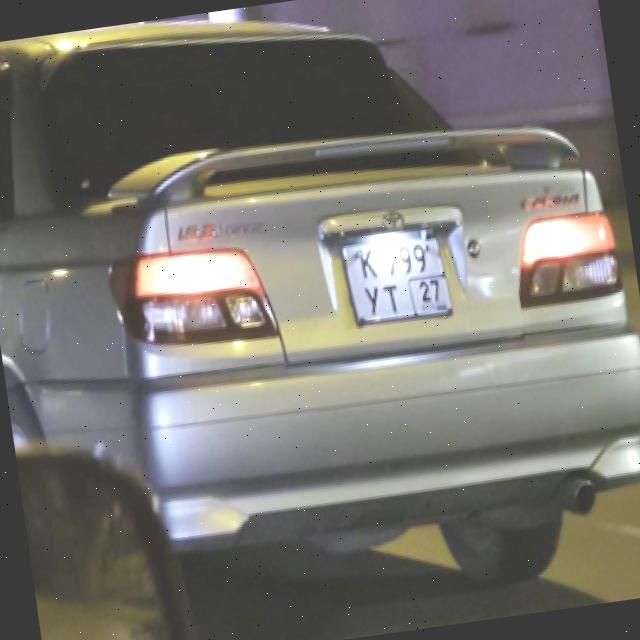number-plates: (336, 224, 456, 334)
